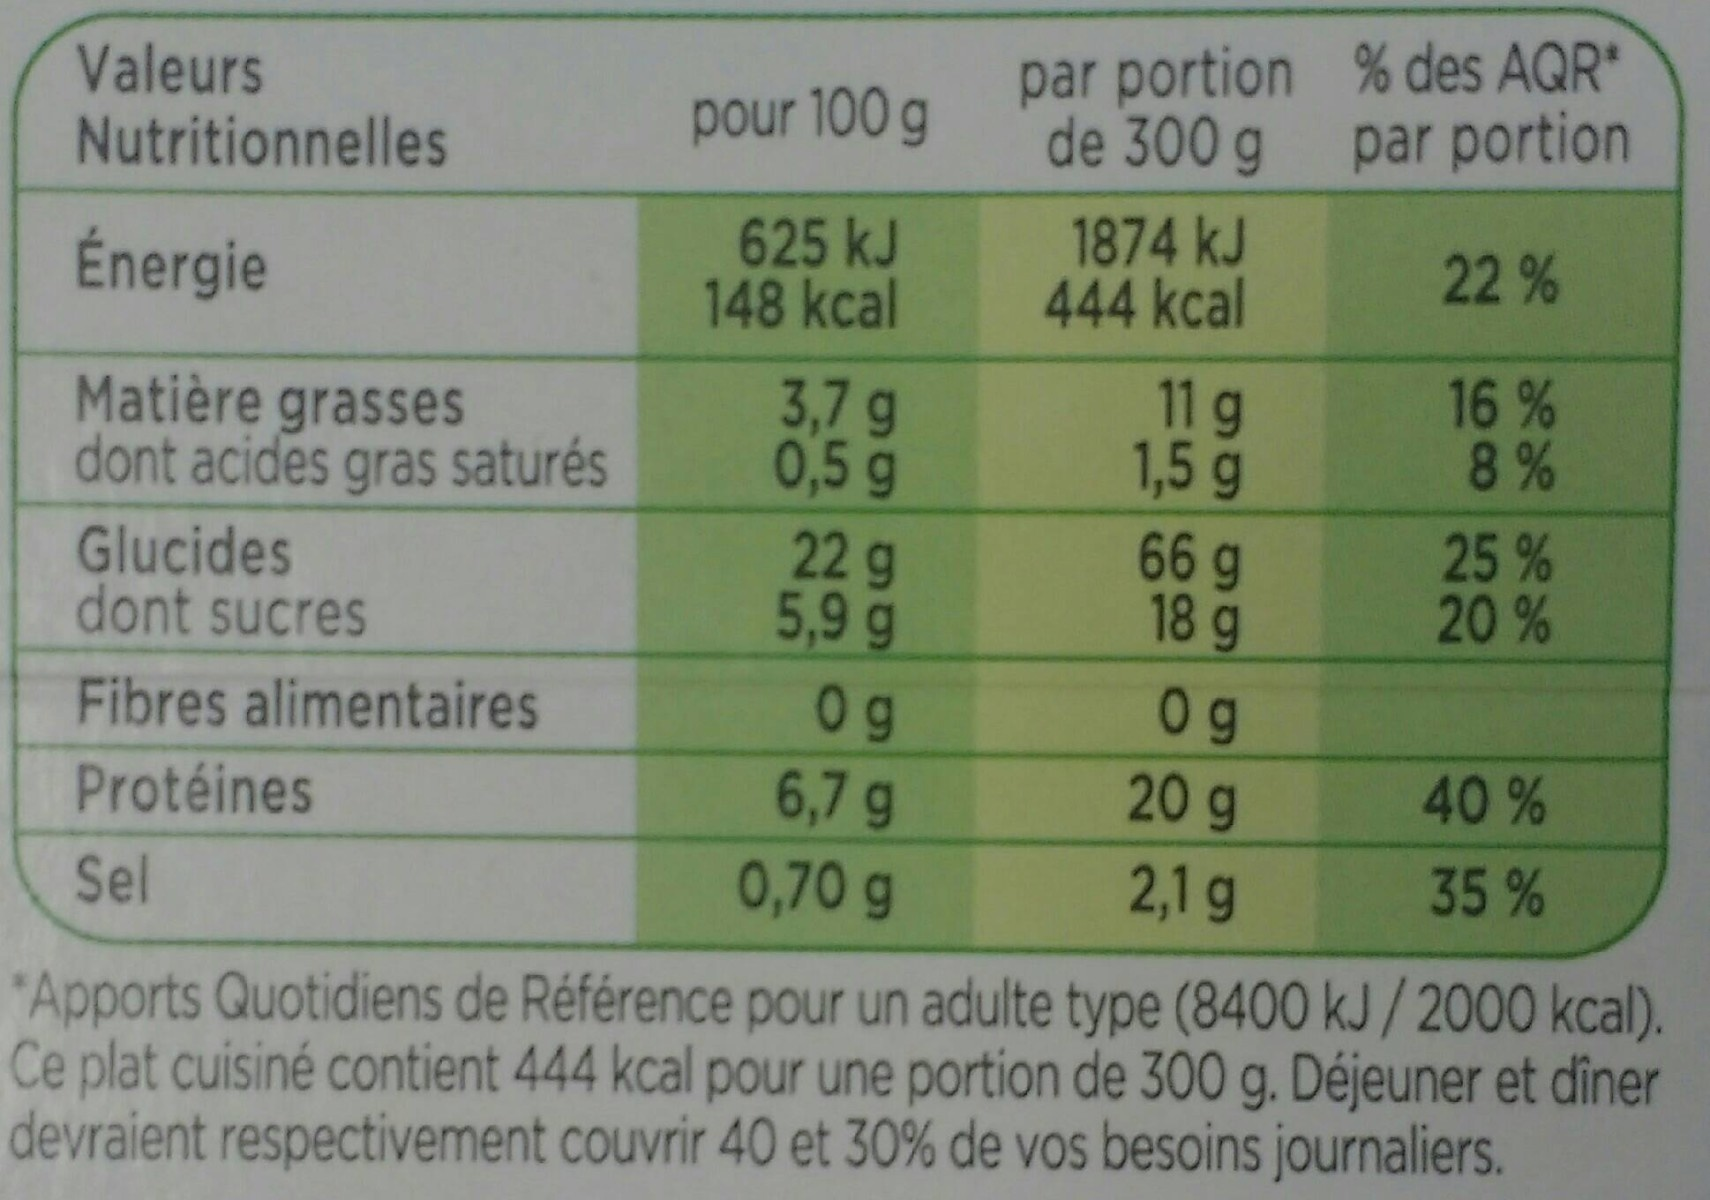column: (65, 192, 615, 944), (1351, 29, 1635, 943), (1023, 34, 1292, 944), (693, 34, 930, 943)
table: (14, 12, 1683, 958)
